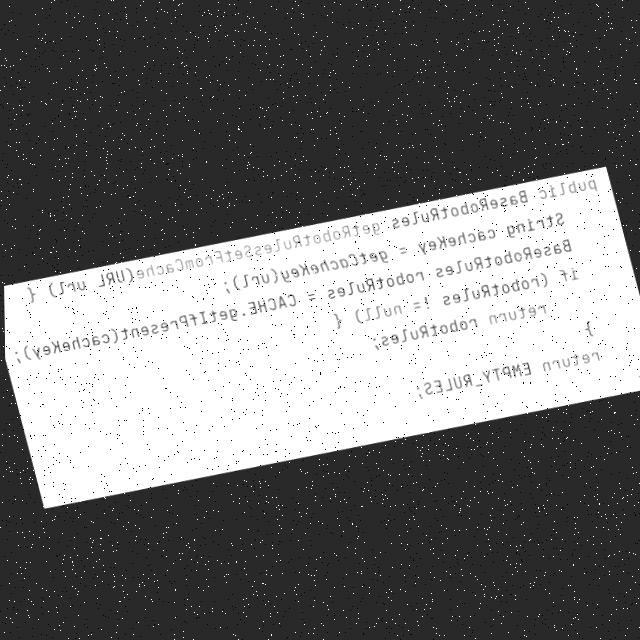code_screen: (4, 166, 640, 505)
